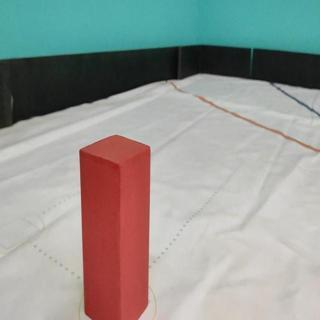redbox: (78, 133, 152, 320)
